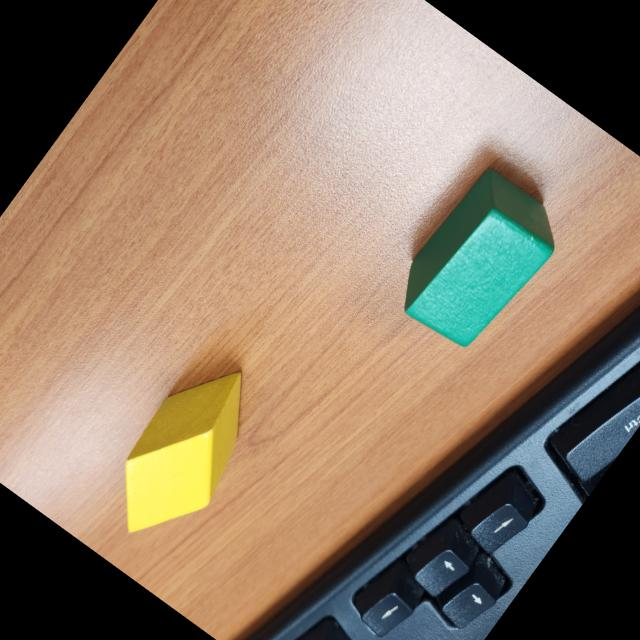green: (384, 160, 574, 362)
yellow: (86, 344, 282, 562)
